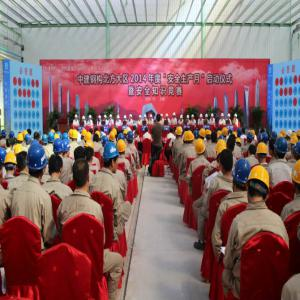blue: (28, 145, 48, 180), (232, 159, 251, 193), (103, 143, 120, 173), (276, 138, 289, 162), (55, 139, 65, 158), (63, 140, 72, 159), (292, 143, 300, 162), (127, 131, 135, 146), (49, 132, 56, 146), (42, 134, 49, 147), (247, 133, 254, 144), (26, 135, 32, 146), (2, 130, 7, 140), (10, 132, 15, 141)
none: (73, 157, 90, 191), (221, 150, 234, 177), (50, 155, 63, 180), (17, 151, 29, 173), (227, 138, 237, 155), (86, 147, 95, 165), (269, 140, 276, 159), (248, 145, 257, 158), (211, 132, 219, 145), (93, 134, 100, 145), (156, 114, 162, 124), (145, 127, 150, 135), (135, 131, 139, 140)
white: (287, 128, 293, 142), (75, 114, 79, 122), (89, 116, 93, 123), (104, 115, 108, 122), (180, 115, 184, 122), (187, 115, 191, 122), (200, 114, 204, 121), (205, 114, 209, 121), (211, 114, 215, 121), (228, 113, 232, 120), (117, 116, 121, 122), (124, 116, 128, 122), (130, 115, 134, 121), (144, 115, 148, 121), (166, 114, 170, 120), (173, 113, 177, 119), (235, 114, 239, 120), (83, 116, 86, 123), (222, 113, 225, 120), (99, 116, 102, 122), (110, 115, 113, 121), (140, 116, 143, 122), (151, 115, 154, 121), (192, 115, 195, 121)
yellow: (247, 166, 271, 206), (292, 161, 300, 195), (5, 154, 17, 176), (257, 143, 268, 164), (196, 139, 207, 158), (118, 139, 128, 157), (186, 130, 195, 147), (291, 136, 299, 151), (71, 129, 78, 143), (176, 127, 183, 140), (199, 129, 206, 141), (222, 128, 229, 139), (206, 130, 212, 142), (237, 139, 243, 151), (18, 134, 24, 145), (82, 130, 88, 140)
